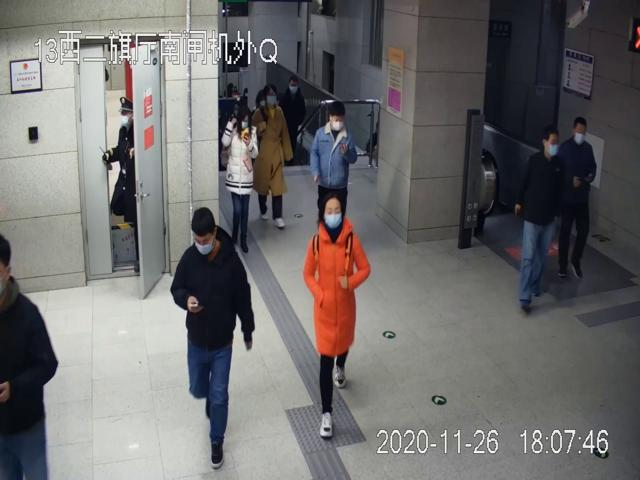person: (170, 208, 256, 469), (304, 189, 371, 437), (515, 124, 566, 316), (251, 85, 294, 230), (560, 117, 597, 280), (310, 105, 358, 229), (220, 105, 257, 248)
